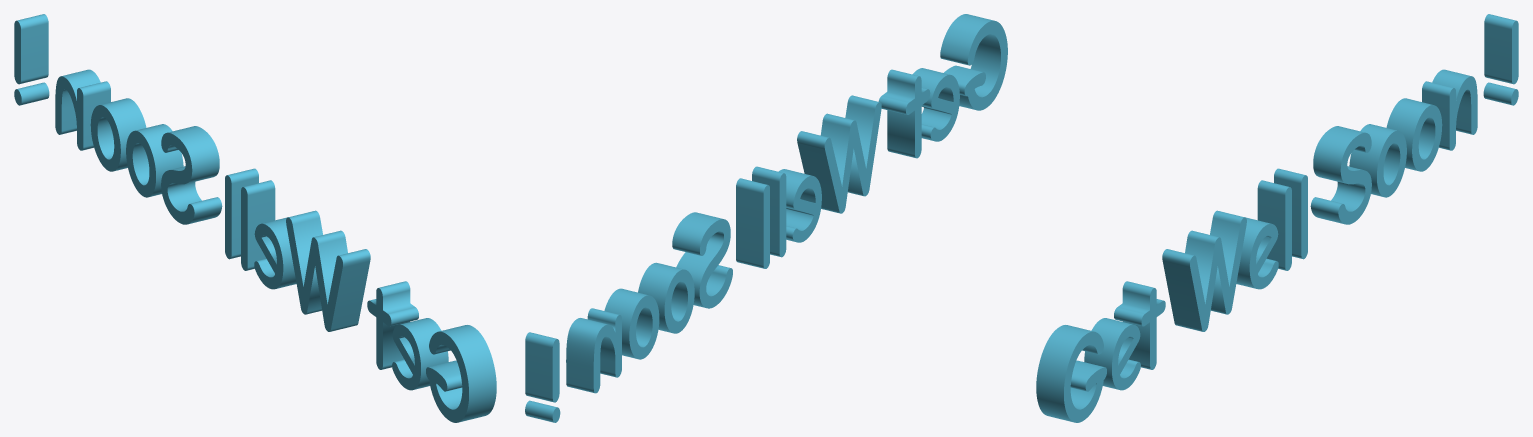
File: getwellsoon.glb
3 views of the same model, side by side, from view 1: azimuth 30°, elevation 25°; view 2: azimuth 150°, elevation 25°; view 3: azimuth 330°, elevation 25° (orthographic).
Parts seen in each view (by area): view 1: 文本.001; view 2: 文本.001; view 3: 文本.001.
Part boxes in pixels (bbox=[...]): 文本.001: bbox=[14, 14, 496, 422]; 文本.001: bbox=[525, 14, 1007, 422]; 文本.001: bbox=[1036, 14, 1518, 422].
Size of the model in its own units: 0.2 by 0.5933 by 5.71.
